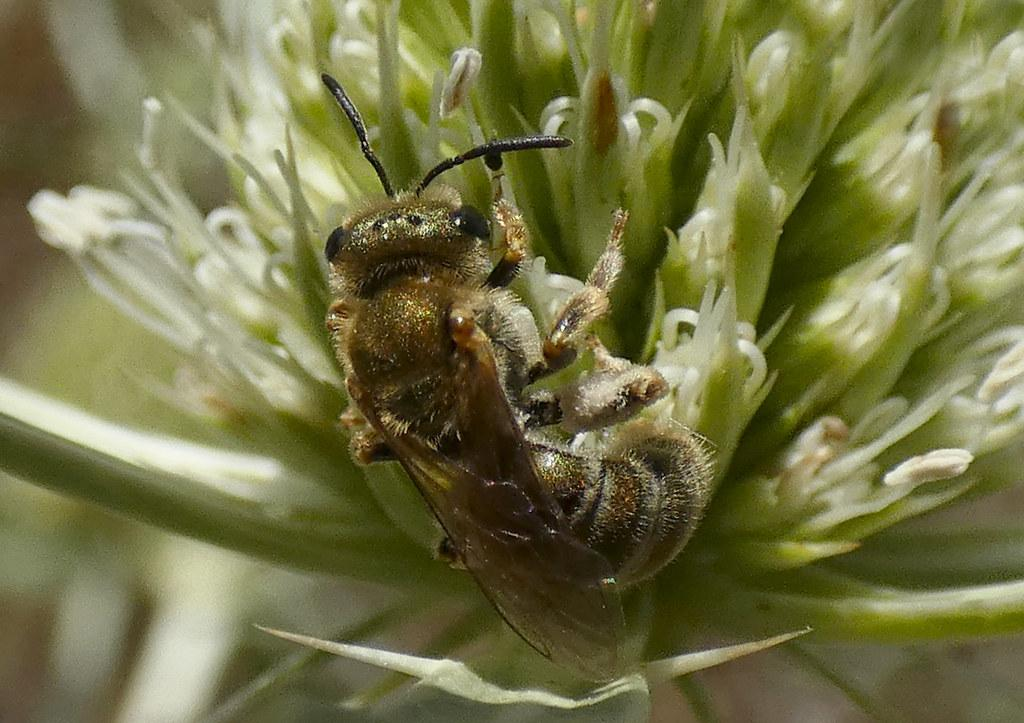Seladonia: (293, 63, 741, 664)
